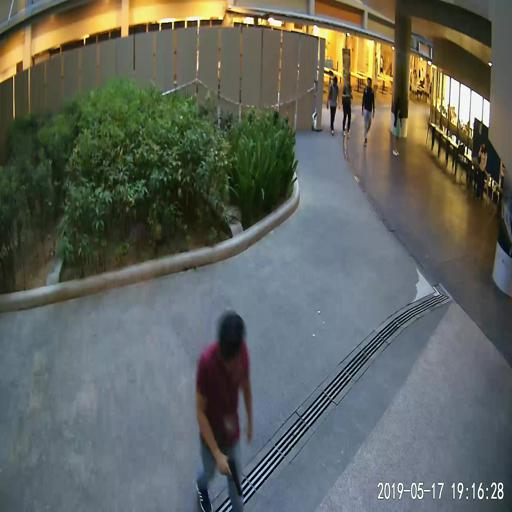pistol: (220, 455, 241, 497)
